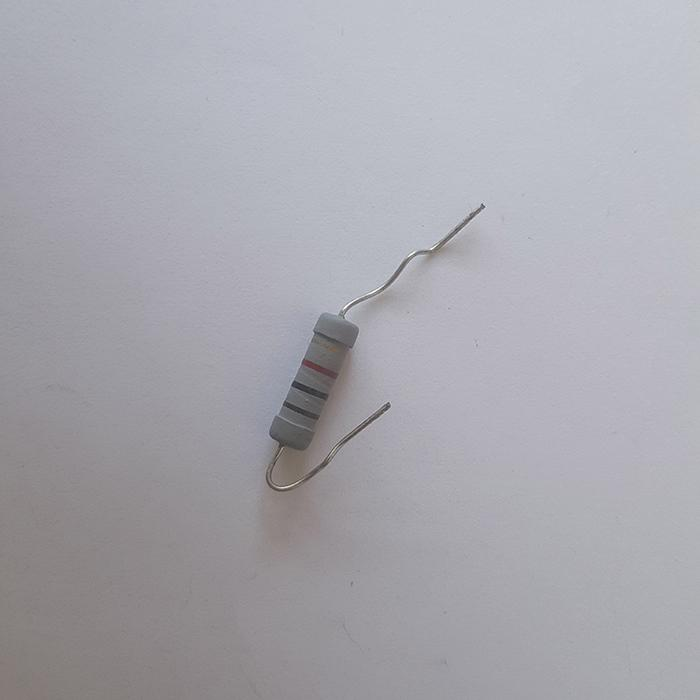resistor: (267, 309, 360, 454)
